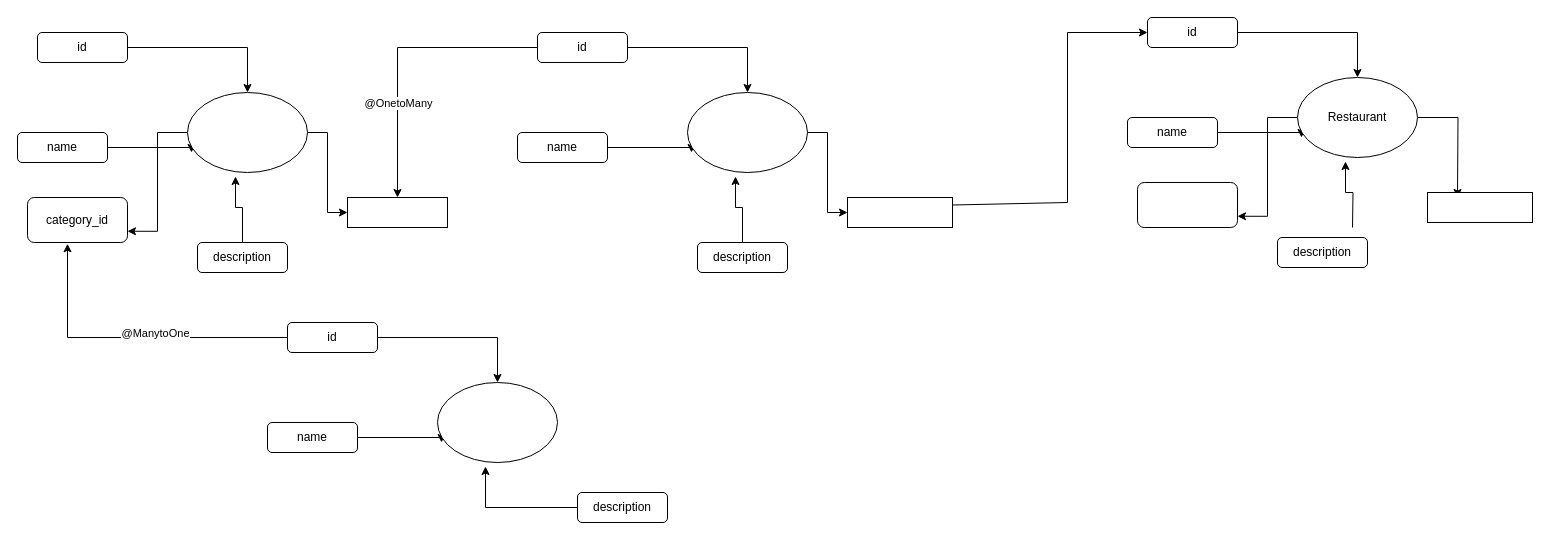
Image size: 1550x540. Some labels were removed from this diagram. The centre of each missing label's shape, as x and y in pixels:
category: (x=497, y=422)
Menu: (x=747, y=132)
menu_id: (x=397, y=212)
menuItem: (x=247, y=132)
profile_id: (x=1479, y=207)
restaurant_id: (x=899, y=212)
website: (x=1187, y=205)
